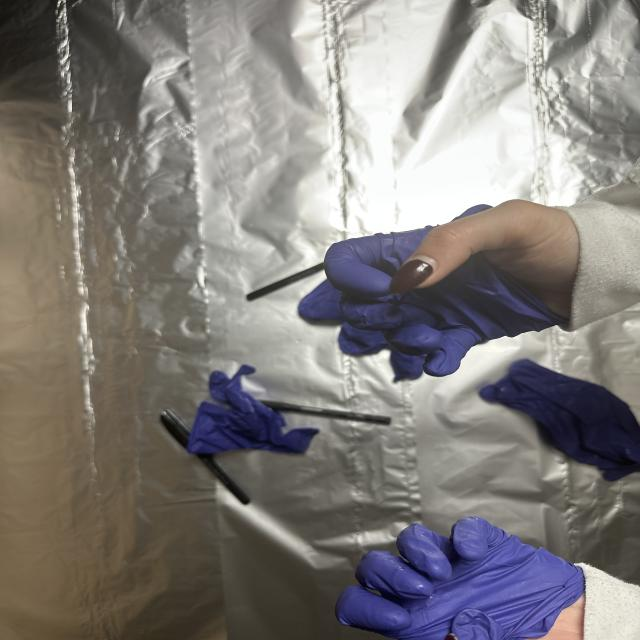glove_partial: (321, 198, 578, 376), (330, 514, 599, 640)
